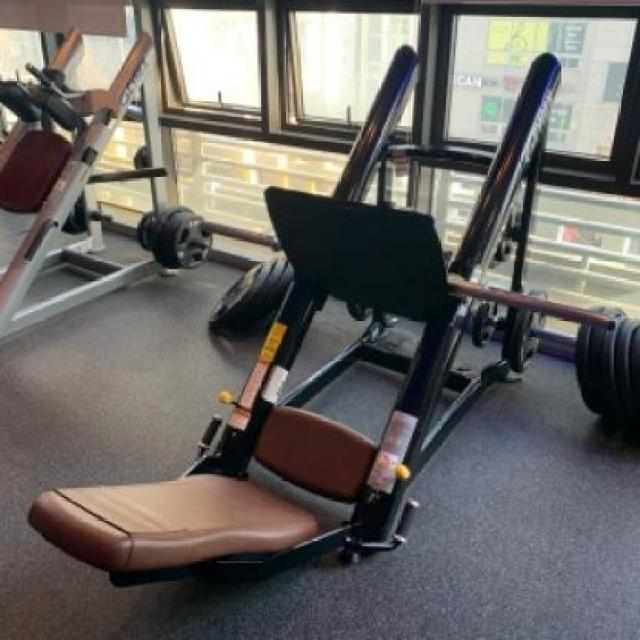leg press: (28, 27, 600, 596)
